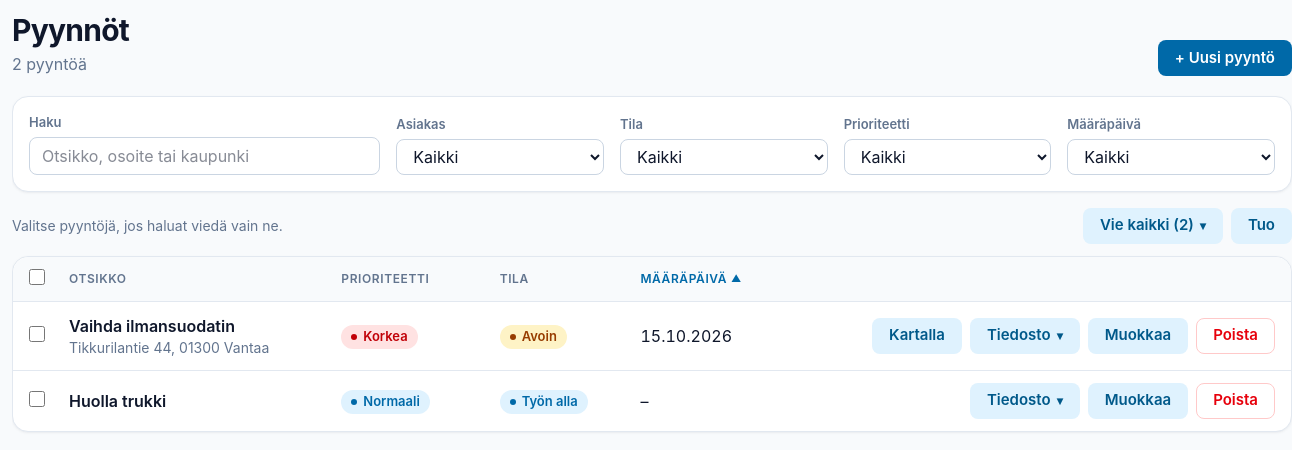
RequestListView › deletes a request after confirmation
The width and height of the screenshot is (1292, 450).
Click the button with class "btn-danger" in the row of "Kartalla" at {"x": 1236, "y": 336}, box [1196, 318, 1275, 354]
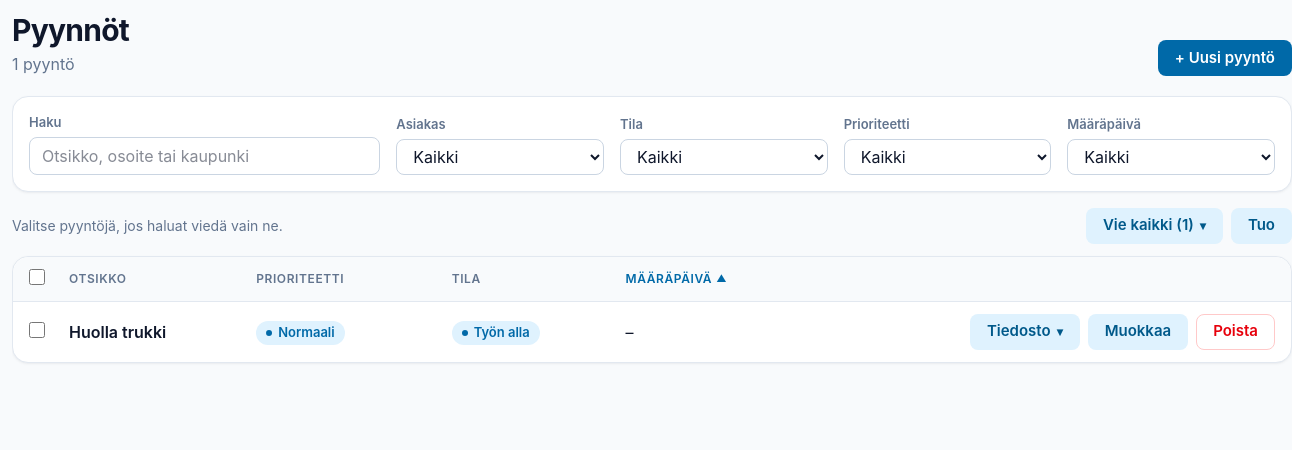
Expected: the text "Vaihda ilmansuodatin" is gone
